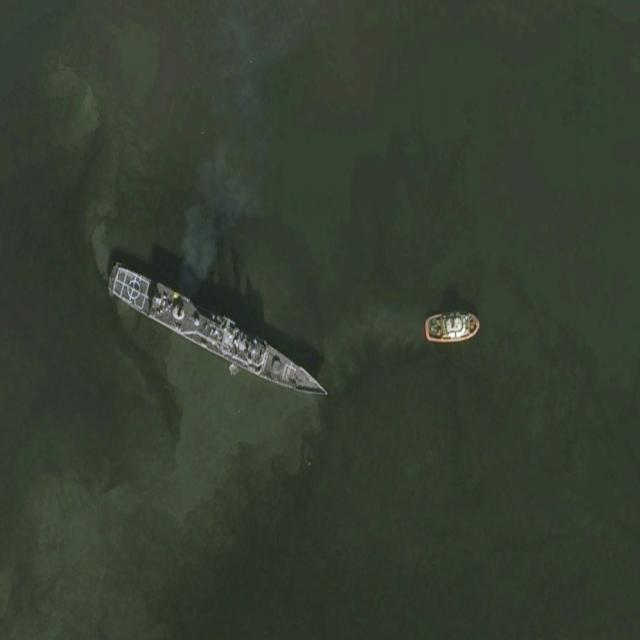Frigate: (105, 255, 333, 410)
Hovercraft: (425, 307, 479, 344)
